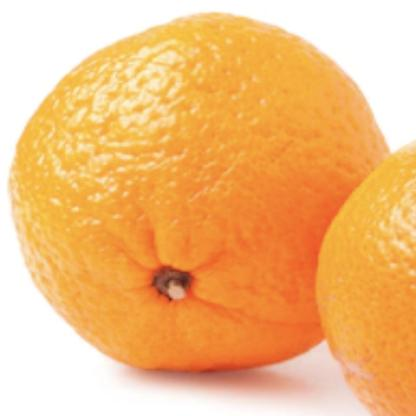fresh: (16, 13, 391, 377)
